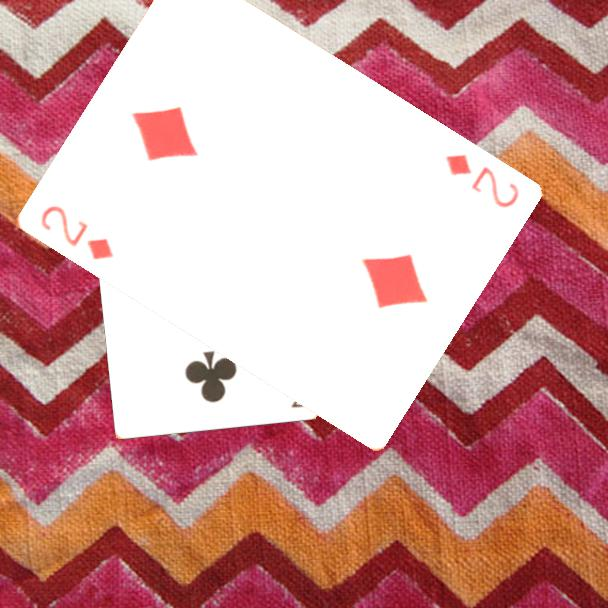d02: (36, 202, 116, 264), (441, 150, 522, 211)
